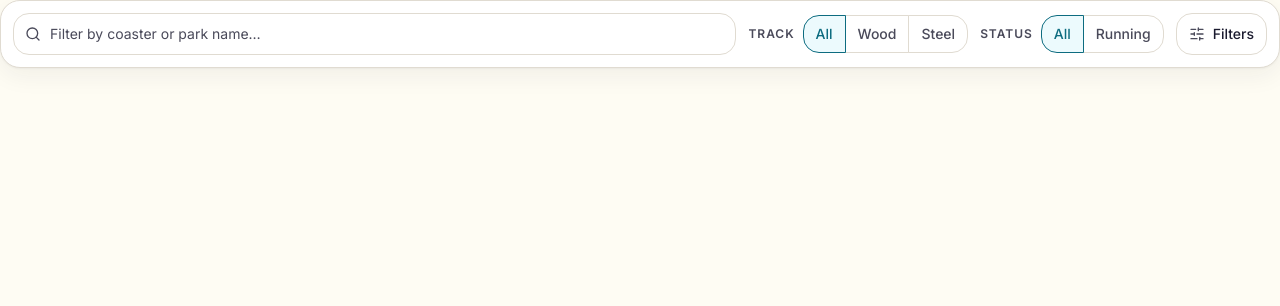
FilterBar › closes the popover on Escape
The width and height of the screenshot is (1280, 306).
Click the button "Filters": (1221, 34) left=1176, top=13, right=1267, bottom=55
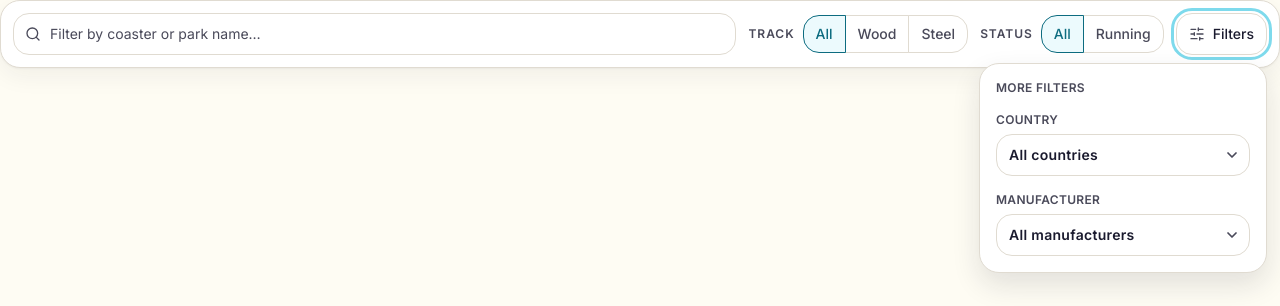
Expected: the dropdown labelled "Country" is shown, left=996, top=134, right=1250, bottom=176
Press Escape
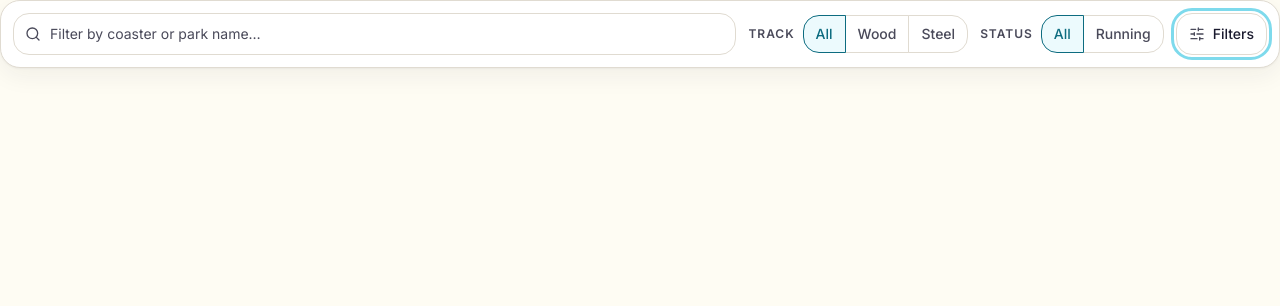
Expected: the label labelled "Country" is gone
